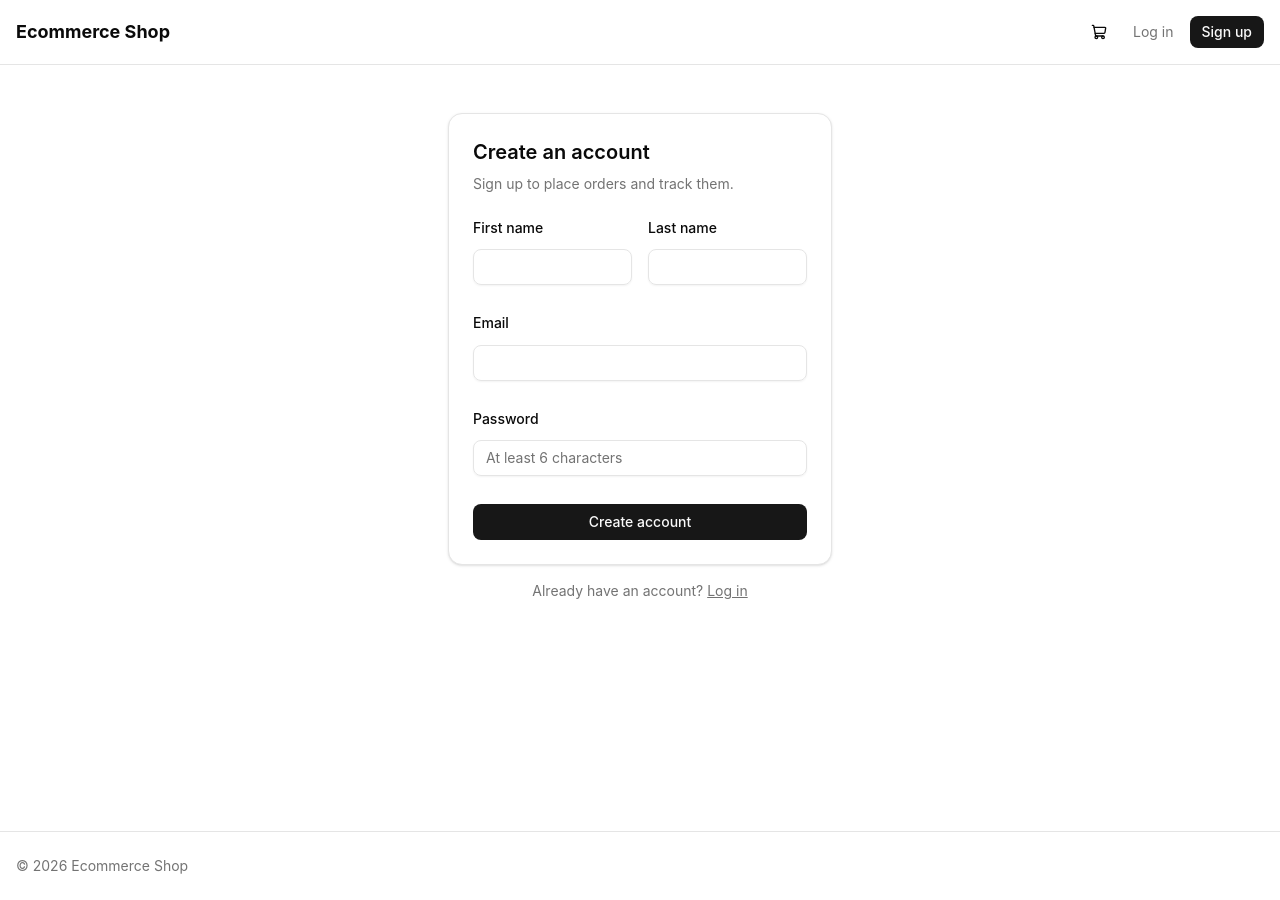
Test: register page › checks the password length on the client
Type "Jane" into the field labelled "First name" at (552, 267), box [473, 249, 632, 285]
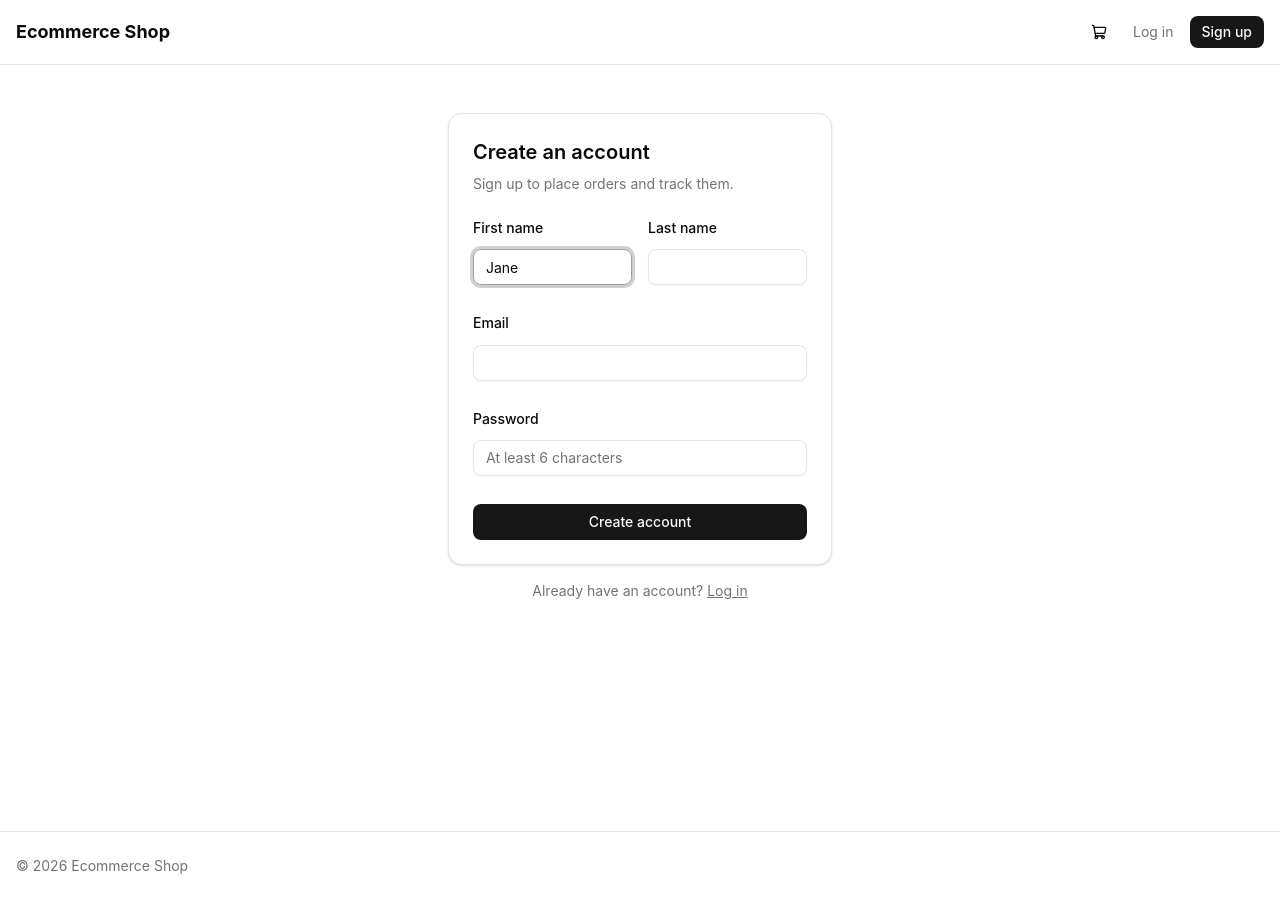
Type "Doe" into the field labelled "Last name" at (728, 267), box [648, 249, 807, 285]
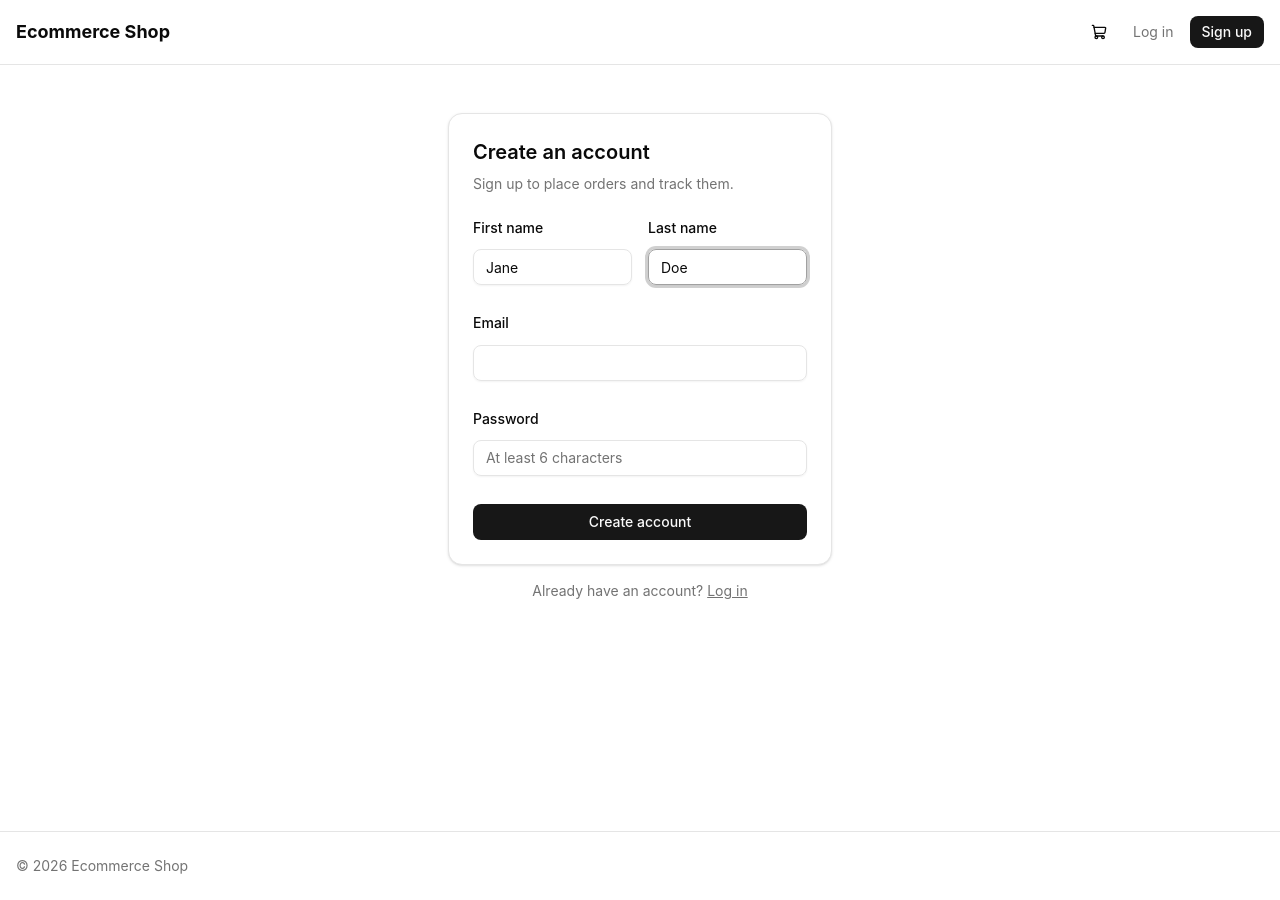
Type "jane@example.com" into the field labelled "Email" at (640, 362), box [473, 344, 807, 380]
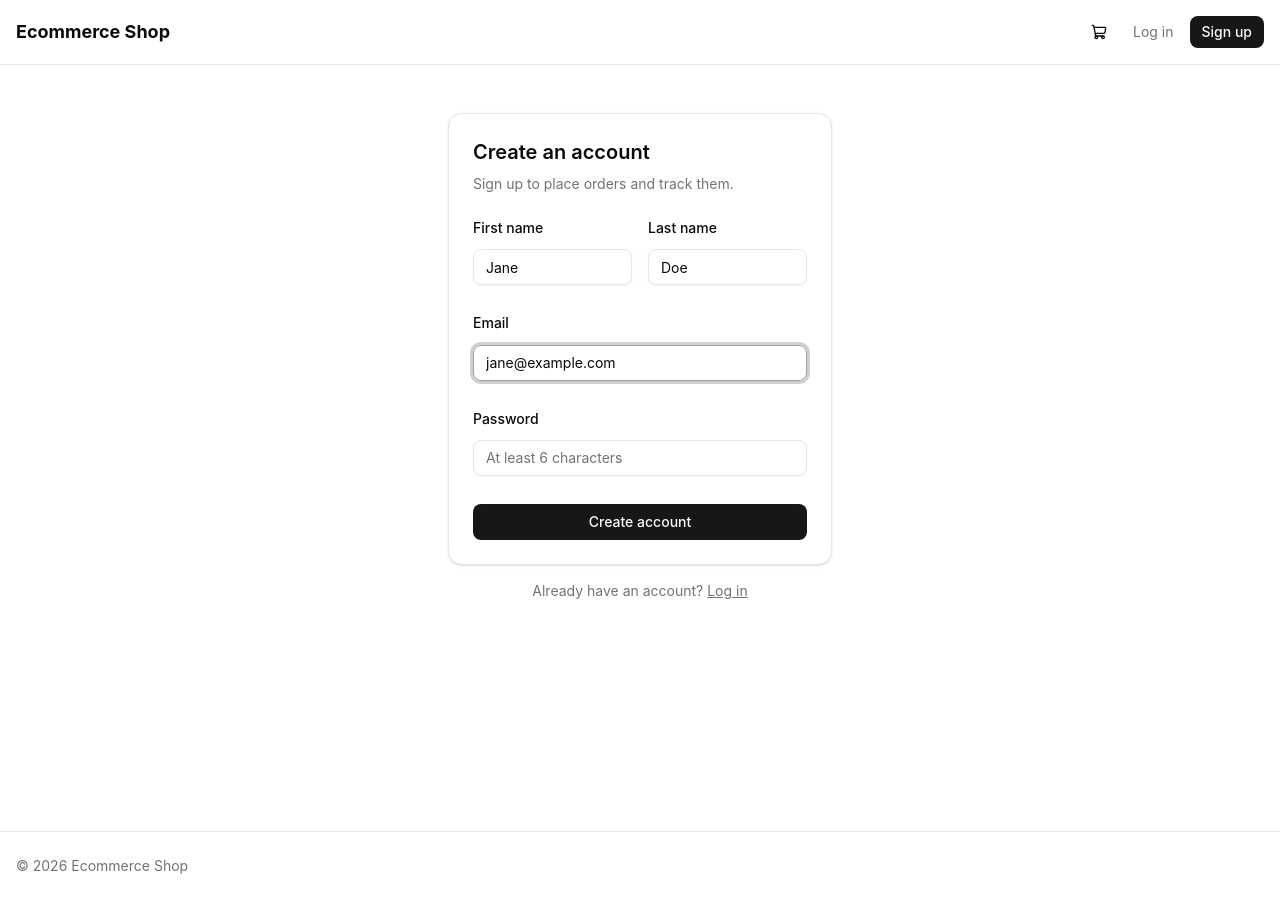
Type "123" into the password field labelled "Password" at (640, 458), box [473, 440, 807, 476]
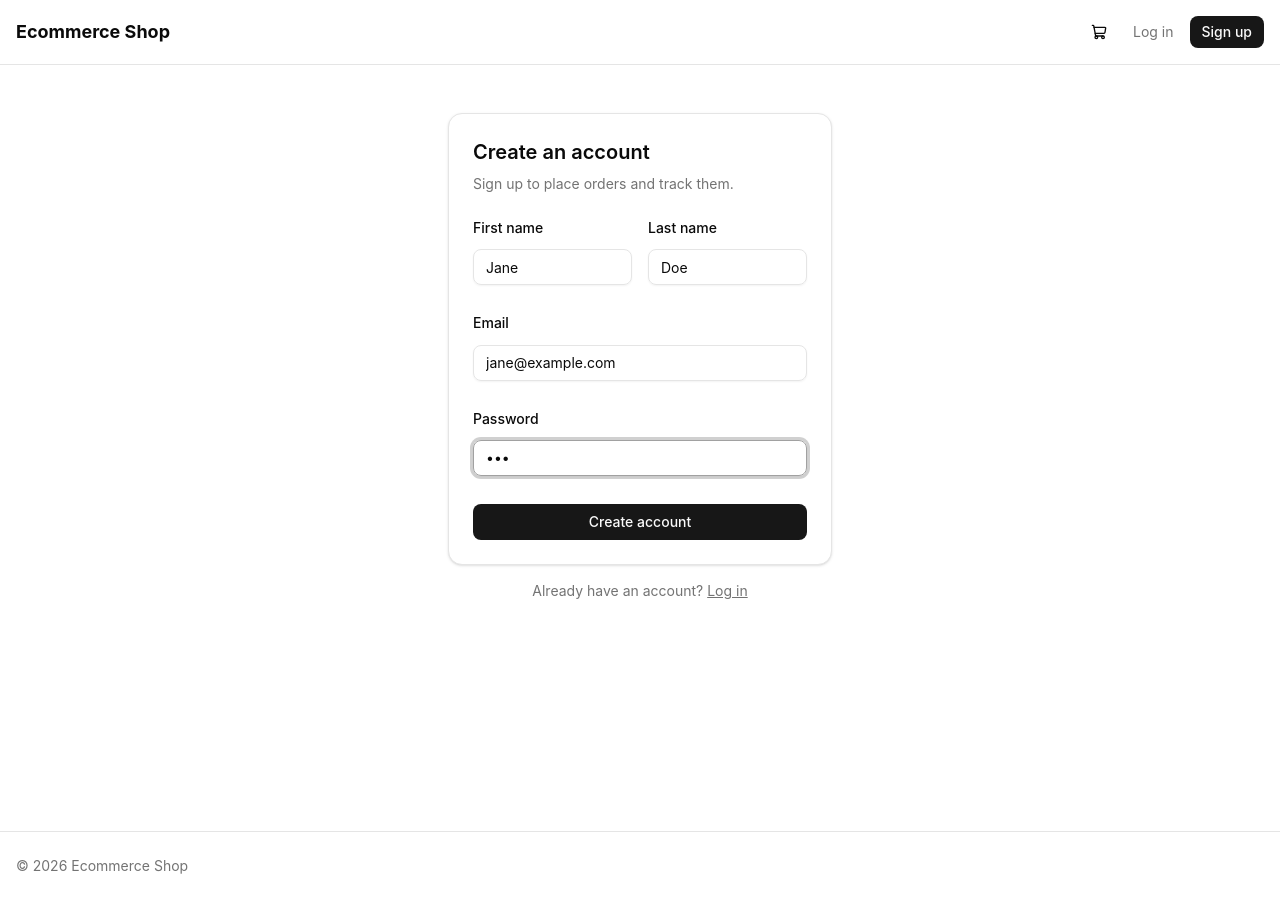
Click the button "Create account" at (640, 522), box [473, 504, 807, 540]
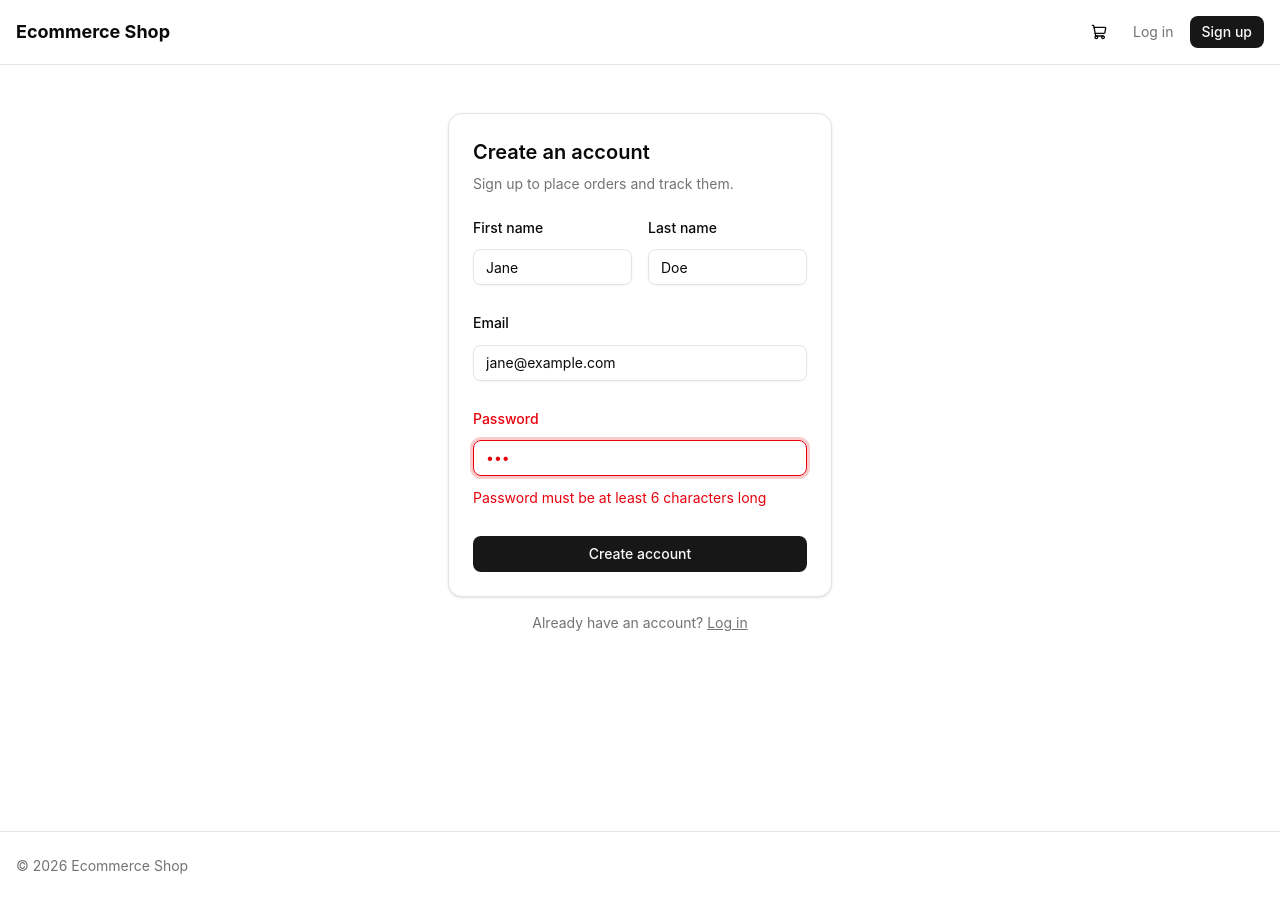
Check: the text "Password must be at least 6 characters long" is shown, box [473, 488, 807, 508]
